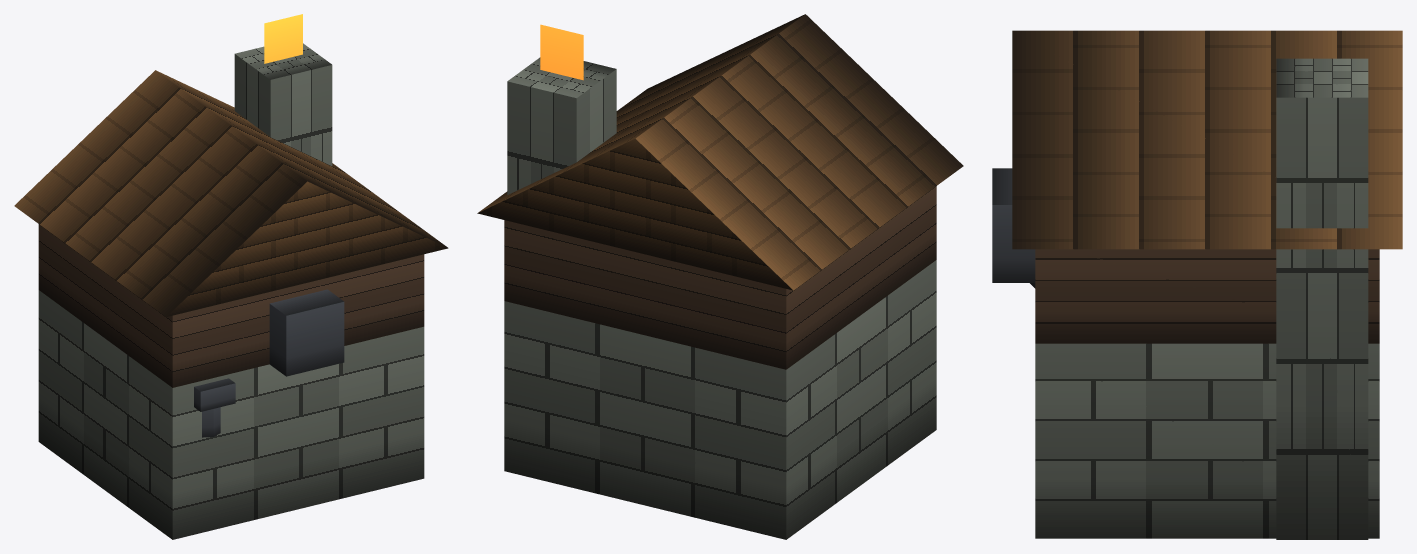
Rendered from blacksmith.glb.
The picture shows the model from 3 angles, left to right: view 1: azimuth 30°, elevation 25°; view 2: azimuth 150°, elevation 25°; view 3: azimuth 270°, elevation 25°; orthographic projection. The views are drawn at different scales.
Parts seen in each view (by area): view 1: blacksmith; view 2: blacksmith; view 3: blacksmith.
Part boxes in pixels (x1=…): blacksmith: x1=14, y1=14, x2=448, y2=539; blacksmith: x1=477, y1=14, x2=963, y2=539; blacksmith: x1=992, y1=30, x2=1402, y2=539.
Bounding box in the file's own units: 1.46 × 1.9 × 1.43.
Materials: 1 (1 with a texture image).
